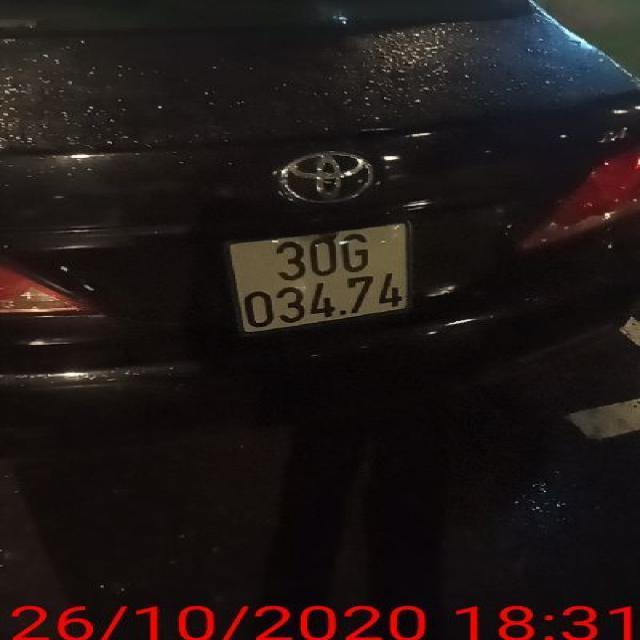bien_so_oto: (223, 220, 416, 338)
